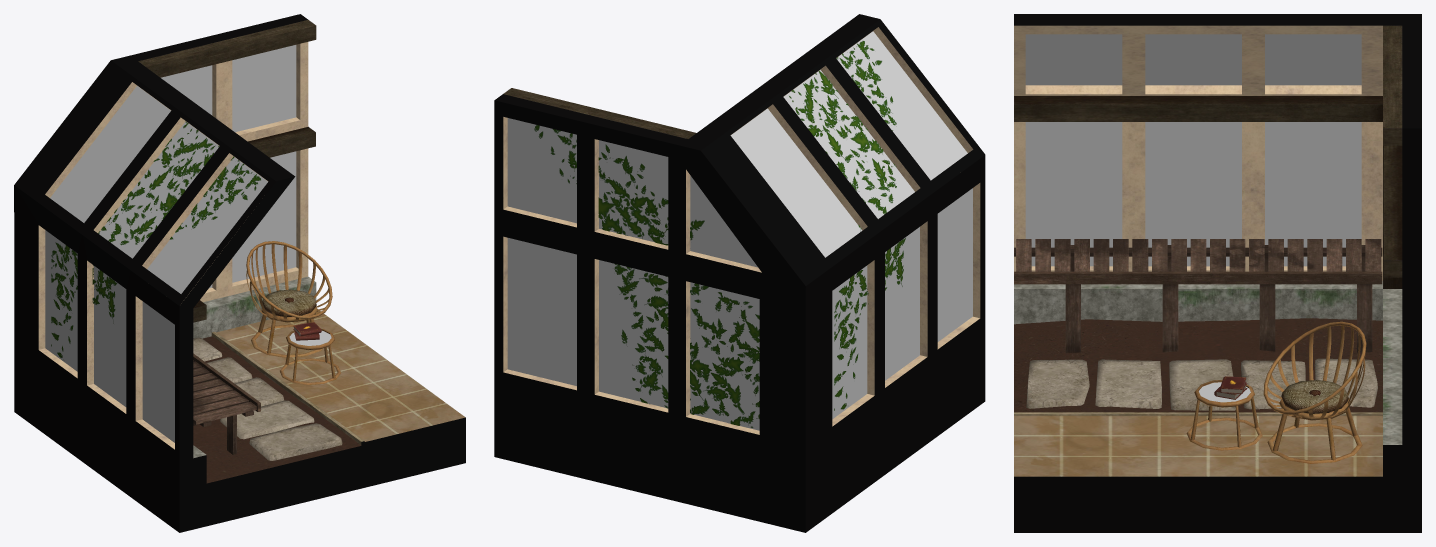
File: CreateScene.dae
The picture shows the model from 3 angles, left to right: view 1: azimuth 30°, elevation 25°; view 2: azimuth 150°, elevation 25°; view 3: azimuth 270°, elevation 25°; orthographic projection. The views are drawn at different scales.
Visible parts, largest first — view 1: Sketchfab_model; view 2: Sketchfab_model; view 3: Sketchfab_model.
Boxes of the visible parts, left/top/right/bottom form: Sketchfab_model: left=14, top=14, right=465, bottom=532; Sketchfab_model: left=494, top=14, right=985, bottom=532; Sketchfab_model: left=1014, top=14, right=1421, bottom=532.
Size of the model in its own units: 4.2 by 4.6 by 4.2.
